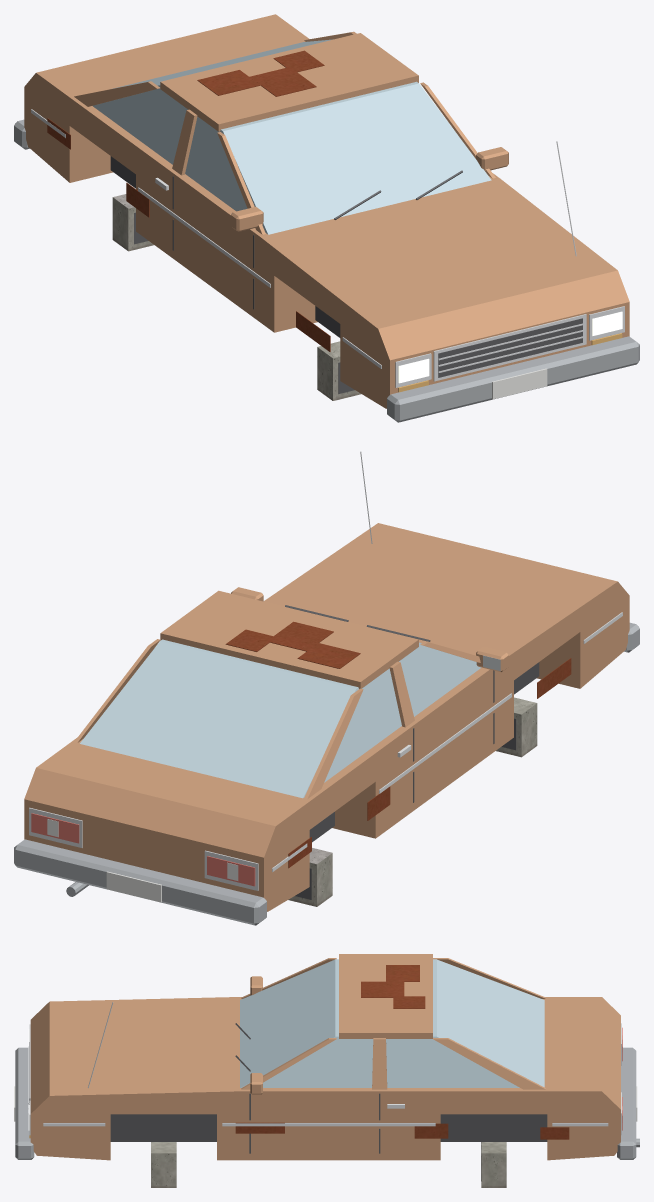
The model's file is junk_coupe_o.glb.
The picture shows the model from 3 angles, top to bottom: view 1: azimuth 30°, elevation 25°; view 2: azimuth 150°, elevation 25°; view 3: azimuth 270°, elevation 25°; orthographic projection. The views are drawn at different scales.
Visible parts, largest first — view 1: junk_coupe_o_car_o, junk_coupe_o_glass, junk_coupe_o_steel, junk_coupe_o_chrome, junk_coupe_o_dark, junk_coupe_o_rust, junk_coupe_o_block, junk_coupe_o_lamp_glass, junk_coupe_o_paint_w, junk_coupe_o_rubber; view 2: junk_coupe_o_car_o, junk_coupe_o_glass, junk_coupe_o_steel, junk_coupe_o_rust, junk_coupe_o_chrome, junk_coupe_o_block, junk_coupe_o_neon_r, junk_coupe_o_paint_w, junk_coupe_o_dark, junk_coupe_o_rubber; view 3: junk_coupe_o_car_o, junk_coupe_o_glass, junk_coupe_o_rubber, junk_coupe_o_steel, junk_coupe_o_rust, junk_coupe_o_block, junk_coupe_o_chrome, junk_coupe_o_dark.
Part boxes in pixels (bbox=[...]): junk_coupe_o_car_o: bbox=[24, 14, 629, 408]; junk_coupe_o_glass: bbox=[93, 39, 491, 234]; junk_coupe_o_steel: bbox=[14, 119, 639, 422]; junk_coupe_o_chrome: bbox=[31, 109, 624, 387]; junk_coupe_o_dark: bbox=[134, 170, 582, 393]; junk_coupe_o_rust: bbox=[47, 50, 330, 351]; junk_coupe_o_block: bbox=[112, 194, 361, 400]; junk_coupe_o_lamp_glass: bbox=[398, 311, 622, 383]; junk_coupe_o_paint_w: bbox=[492, 368, 547, 399]; junk_coupe_o_rubber: bbox=[110, 156, 340, 337]; junk_coupe_o_car_o: bbox=[24, 523, 629, 911]; junk_coupe_o_glass: bbox=[80, 639, 481, 798]; junk_coupe_o_steel: bbox=[14, 622, 639, 925]; junk_coupe_o_rust: bbox=[225, 621, 571, 868]; junk_coupe_o_chrome: bbox=[29, 451, 622, 890]; junk_coupe_o_block: bbox=[288, 697, 537, 906]; junk_coupe_o_neon_r: bbox=[31, 813, 255, 886]; junk_coupe_o_paint_w: bbox=[47, 819, 238, 902]; junk_coupe_o_dark: bbox=[285, 605, 516, 899]; junk_coupe_o_rubber: bbox=[309, 662, 539, 842]; junk_coupe_o_car_o: bbox=[30, 954, 620, 1160]; junk_coupe_o_glass: bbox=[240, 959, 544, 1087]; junk_coupe_o_rubber: bbox=[110, 1114, 547, 1141]; junk_coupe_o_steel: bbox=[15, 1047, 639, 1159]; junk_coupe_o_rust: bbox=[235, 965, 569, 1139]; junk_coupe_o_block: bbox=[151, 1142, 506, 1187]; junk_coupe_o_chrome: bbox=[28, 1002, 621, 1135]; junk_coupe_o_dark: bbox=[29, 1023, 481, 1180].
Bounding box in the file's own units: 2 × 1.6 × 4.93.
Materials: 14 (2 with a texture image).
